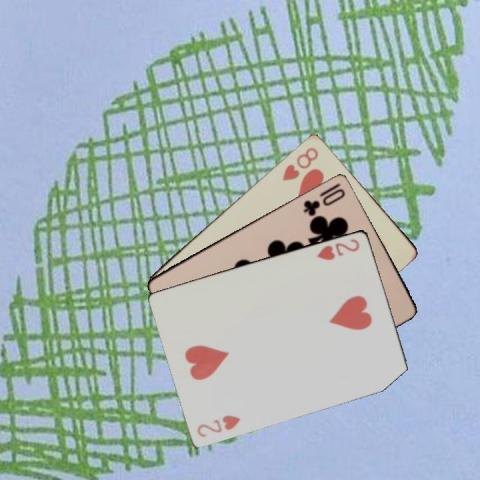10c: (300, 179, 347, 218)
2h: (194, 411, 242, 439), (314, 236, 361, 262)
8h: (279, 143, 320, 182)
